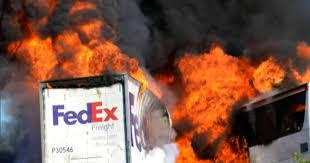fire: (159, 40, 307, 159), (4, 0, 153, 82)
